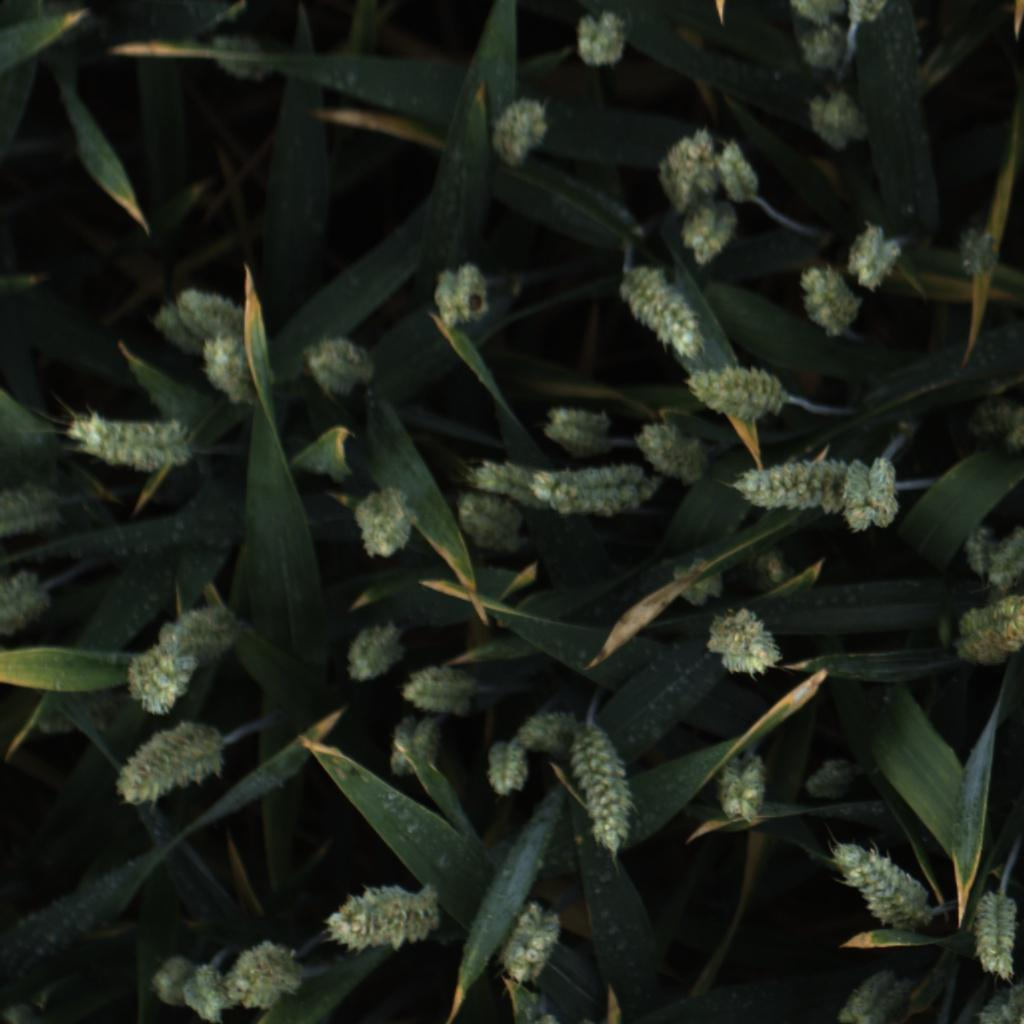0-0: (117, 714, 232, 806), (614, 269, 707, 364), (832, 845, 933, 931), (575, 731, 644, 855), (63, 411, 193, 475), (131, 277, 250, 346), (323, 883, 438, 953), (533, 461, 656, 526), (735, 453, 845, 514), (683, 363, 793, 423), (228, 933, 310, 1013), (128, 946, 206, 1018), (455, 491, 531, 564), (196, 333, 269, 408), (499, 904, 565, 986), (301, 333, 381, 400), (127, 642, 197, 717), (801, 86, 878, 154), (637, 419, 711, 489), (795, 261, 860, 340), (956, 516, 1024, 591), (351, 487, 418, 563), (946, 597, 1024, 662), (706, 614, 784, 679), (782, 0, 850, 74), (208, 20, 276, 94), (341, 615, 409, 686), (844, 458, 909, 532), (969, 893, 1024, 979), (539, 398, 615, 460), (659, 126, 717, 207), (488, 97, 553, 169), (402, 661, 485, 717), (843, 220, 908, 291), (834, 967, 913, 1024), (429, 262, 493, 332), (155, 606, 242, 656), (381, 715, 445, 782), (469, 453, 545, 509), (720, 749, 773, 829), (965, 390, 1024, 456), (683, 201, 739, 266), (573, 6, 629, 70), (3, 479, 68, 534), (711, 138, 761, 208), (733, 544, 803, 594), (518, 704, 583, 757), (482, 731, 531, 797), (183, 953, 231, 1020), (952, 224, 1004, 283), (4, 566, 48, 631), (663, 558, 724, 604), (805, 754, 854, 801), (973, 980, 1024, 1024)
